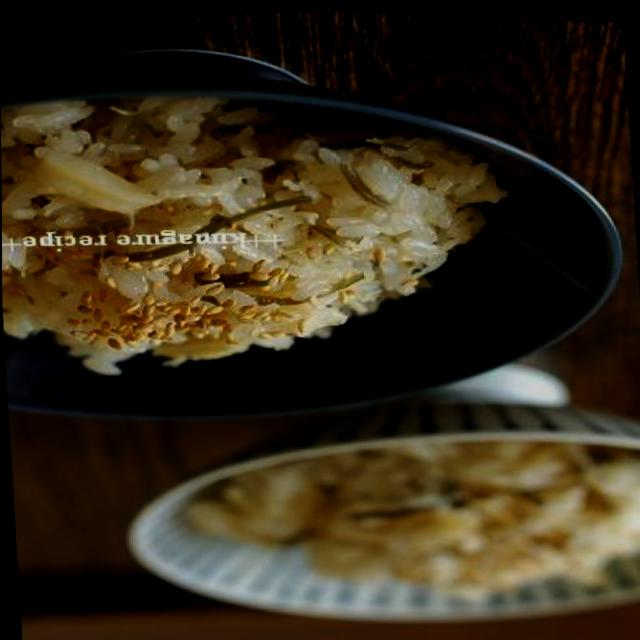米饭主食: (0, 82, 491, 380)
